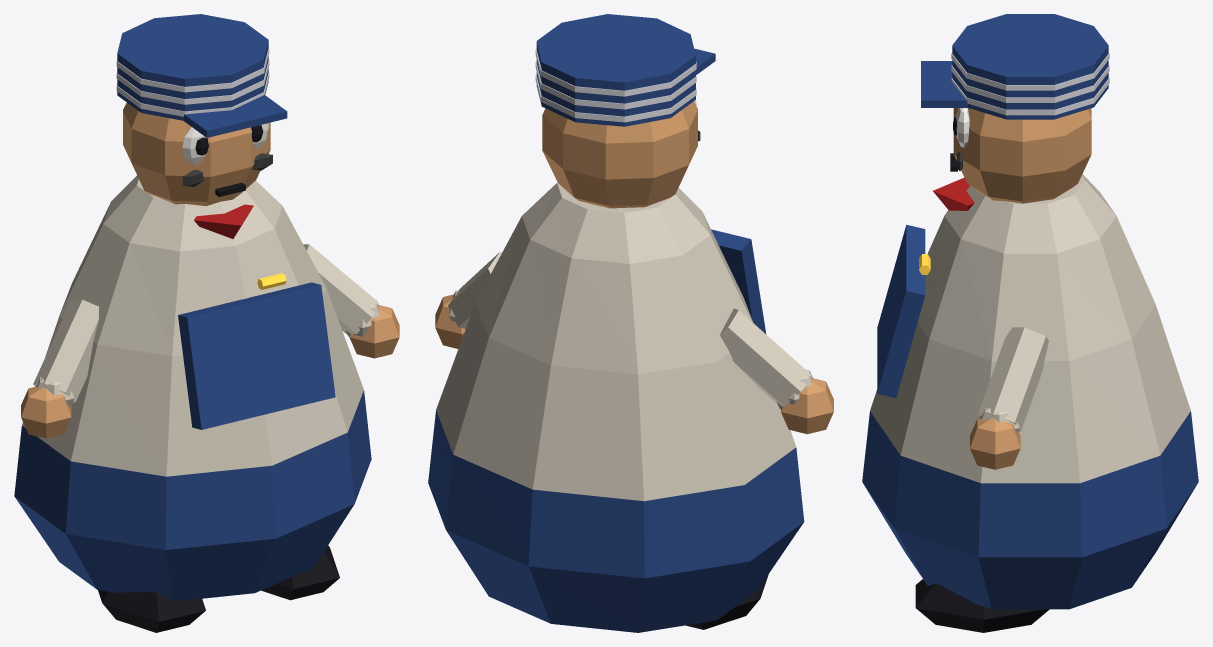
File: npc_maquinista.glb
3 renders of one model, left to right at view 1: azimuth 30°, elevation 25°; view 2: azimuth 150°, elevation 25°; view 3: azimuth 270°, elevation 25°, orthographic. The views are drawn at different scales.
Visible parts, largest first — view 1: body_overalls, body_engine_shirt, cap_overalls, head_skin_arena, arms_engine_shirt, legs_black, arms_skin_arena, cap_cap_stripe, body_neckerchief, face_white, face_black; view 2: body_engine_shirt, body_overalls, cap_overalls, head_skin_arena, arms_engine_shirt, cap_cap_stripe, arms_skin_arena, legs_black; view 3: body_engine_shirt, body_overalls, cap_overalls, head_skin_arena, arms_engine_shirt, legs_black, cap_cap_stripe, arms_skin_arena, body_neckerchief.
Part boxes in pixels (left/top/right/bottom): body_overalls: left=14, top=282, right=371, bottom=600; body_engine_shirt: left=22, top=175, right=363, bottom=476; cap_overalls: left=117, top=14, right=287, bottom=137; head_skin_arena: left=123, top=102, right=270, bottom=206; arms_engine_shirt: left=33, top=244, right=379, bottom=407; legs_black: left=98, top=545, right=339, bottom=632; arms_skin_arena: left=21, top=305, right=399, bottom=438; cap_cap_stripe: left=116, top=47, right=269, bottom=116; body_neckerchief: left=194, top=204, right=253, bottom=238; face_white: left=182, top=123, right=269, bottom=163; face_black: left=195, top=125, right=263, bottom=196; body_engine_shirt: left=436, top=182, right=795, bottom=501; body_overalls: left=428, top=229, right=804, bottom=632; cap_overalls: left=536, top=14, right=715, bottom=126; head_skin_arena: left=542, top=101, right=697, bottom=208; arms_engine_shirt: left=448, top=252, right=813, bottom=409; cap_cap_stripe: left=535, top=49, right=696, bottom=122; arms_skin_arena: left=435, top=294, right=833, bottom=434; legs_black: left=685, top=574, right=768, bottom=629; body_engine_shirt: left=870, top=174, right=1190, bottom=483; body_overalls: left=862, top=224, right=1198, bottom=609; cap_overalls: left=921, top=14, right=1108, bottom=119; head_skin_arena: left=953, top=108, right=1091, bottom=203; arms_engine_shirt: left=977, top=327, right=1048, bottom=432; legs_black: left=915, top=579, right=1049, bottom=632; cap_cap_stripe: left=951, top=52, right=1109, bottom=115; arms_skin_arena: left=970, top=418, right=1020, bottom=469; body_neckerchief: left=933, top=177, right=974, bottom=210.
Bounding box in the file's own units: 1.13 × 1.54 × 0.86.
